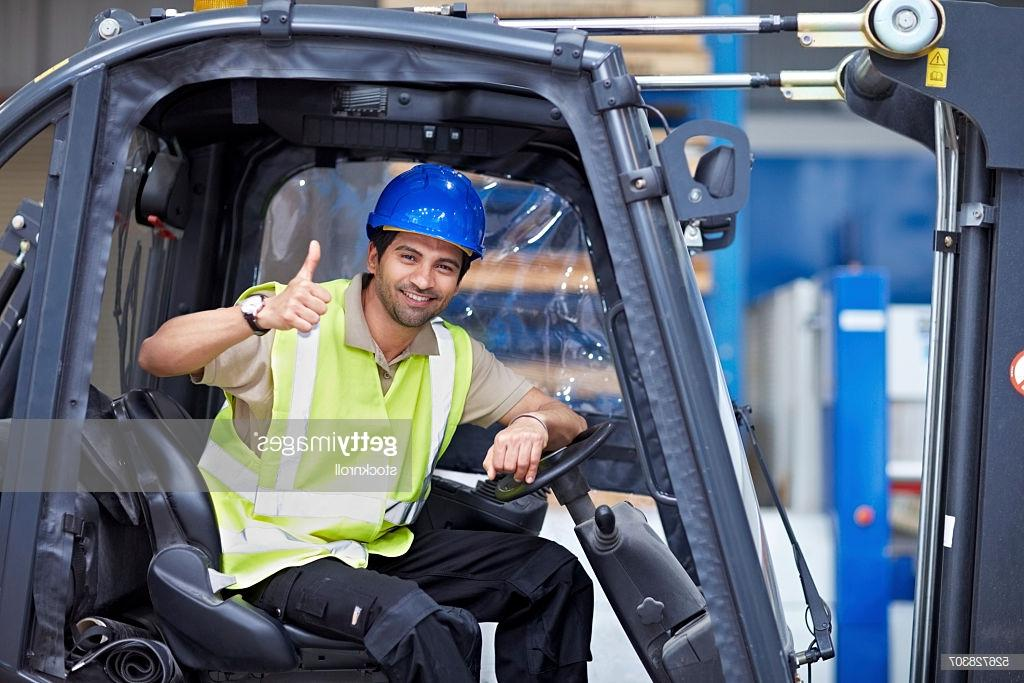thumbsup: (281, 240, 331, 333)
